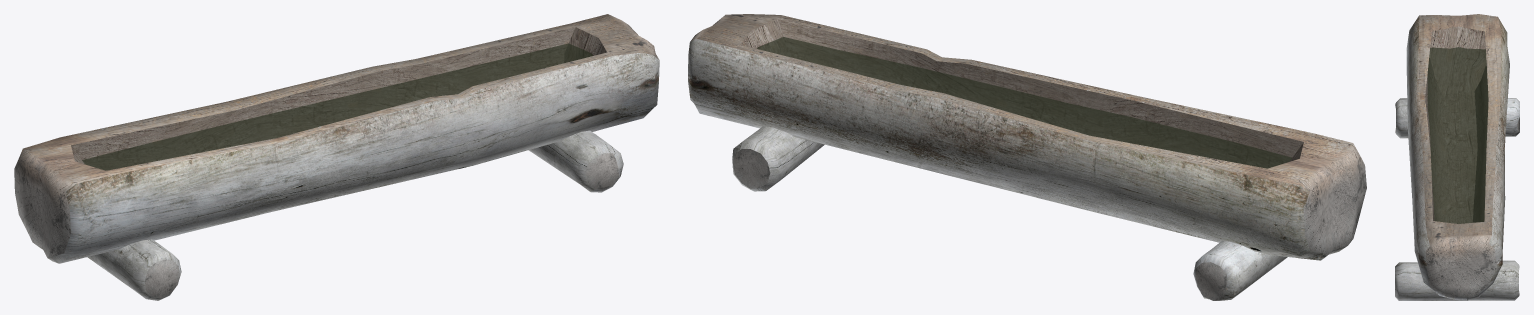
File: uploads_files_2512059_trough.FBX
3 renders of one model, left to right at view 1: azimuth 30°, elevation 25°; view 2: azimuth 150°, elevation 25°; view 3: azimuth 270°, elevation 25°, orthographic. The views are drawn at different scales.
Parts seen in each view (by area): view 1: trough, water; view 2: trough, water; view 3: trough, water.
Part boxes in pixels (<box>): trough: <box>14,14,659,300</box>; water: <box>82,43,592,170</box>; trough: <box>688,14,1366,300</box>; water: <box>757,37,1291,168</box>; trough: <box>1395,14,1519,300</box>; water: <box>1427,47,1488,223</box>.
Bounding box in the file's own units: 2.74 × 0.542 × 0.6444.
Materials: 2 (1 with a texture image).
